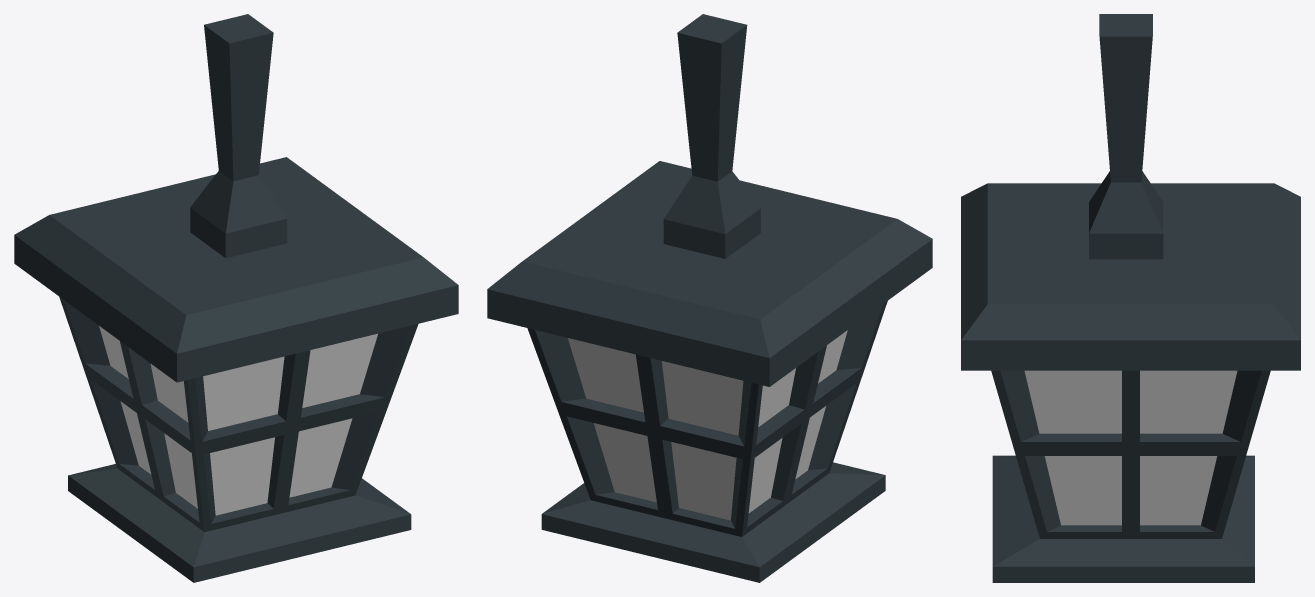
File: lantern_hanging.fbx
3 views of the same model, side by side, from view 1: azimuth 30°, elevation 25°; view 2: azimuth 150°, elevation 25°; view 3: azimuth 270°, elevation 25° (orthographic). The views are drawn at different scales.
Parts seen in each view (by area): view 1: Plane.003; view 2: Plane.003; view 3: Plane.003.
Part boxes in pixels (bbox=[...]): Plane.003: bbox=[14, 14, 458, 582]; Plane.003: bbox=[487, 14, 932, 582]; Plane.003: bbox=[961, 14, 1300, 582].
Bounding box in the file's own units: 0.4597 × 0.7499 × 0.4597.
